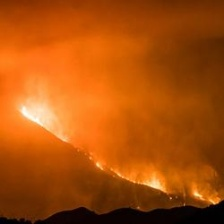fire: (16, 100, 220, 206)
